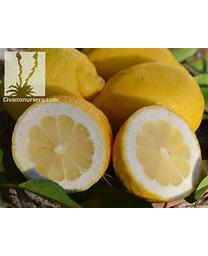lemon: (11, 92, 111, 192), (112, 105, 203, 201), (91, 62, 203, 132)
